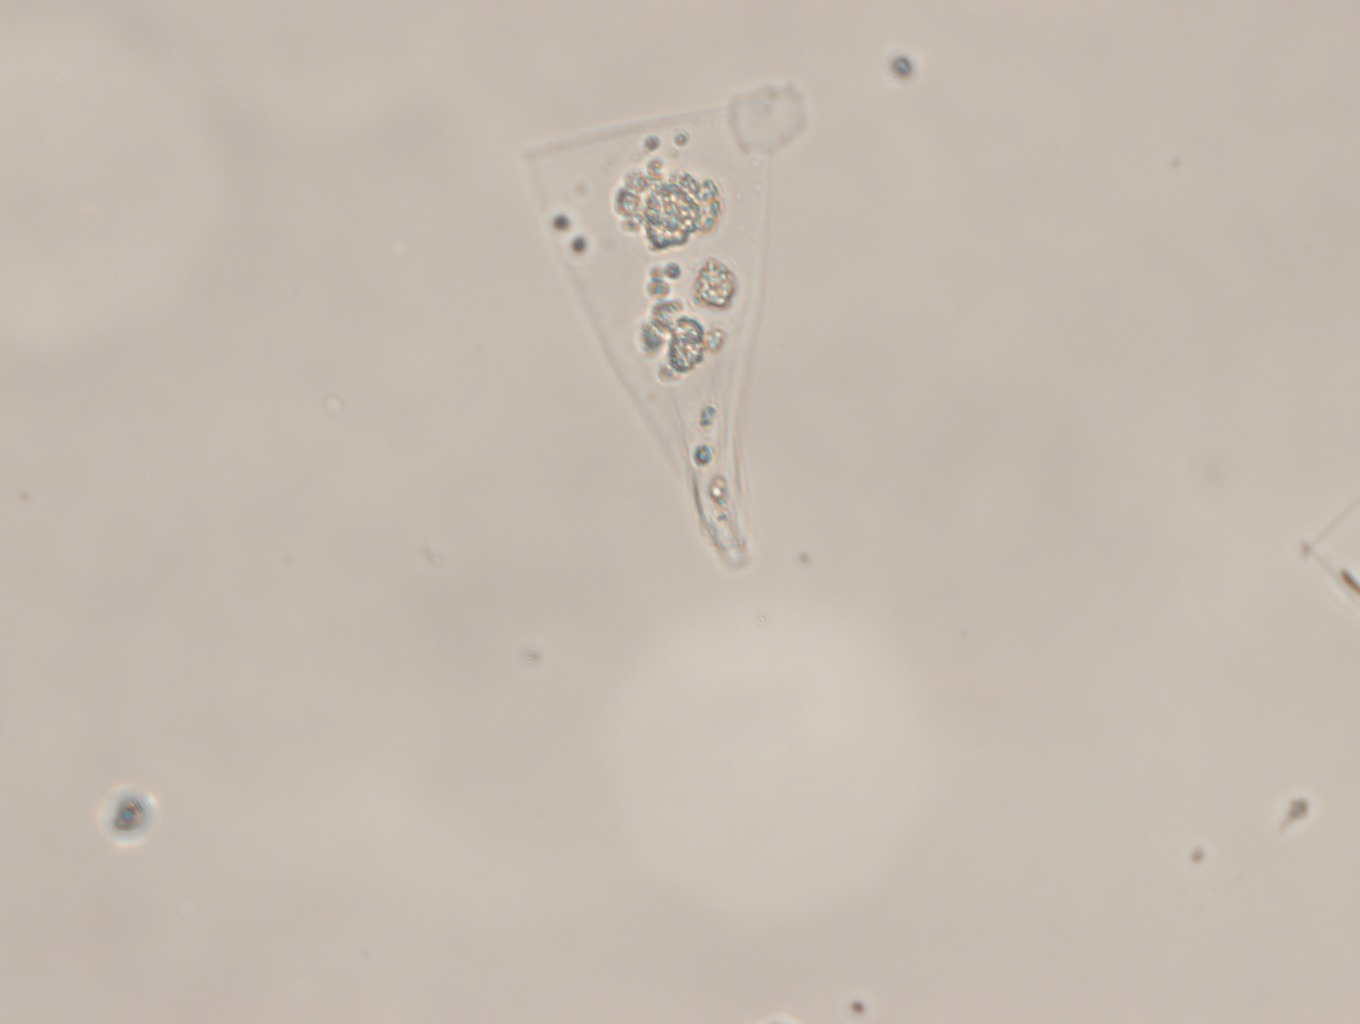helicotheca: (516, 75, 793, 577)
